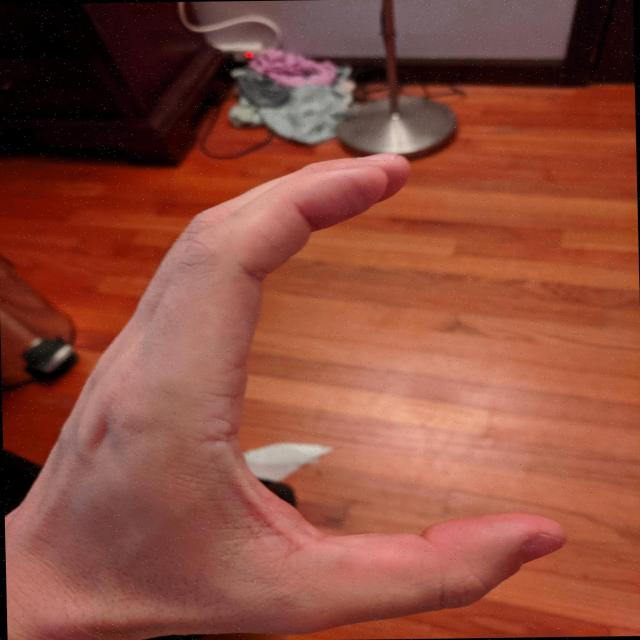C: (0, 143, 576, 640)
